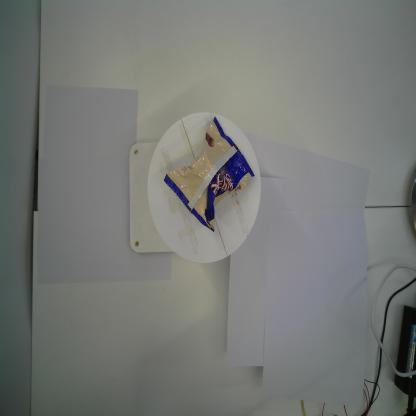Dessert: (163, 116, 256, 232)
